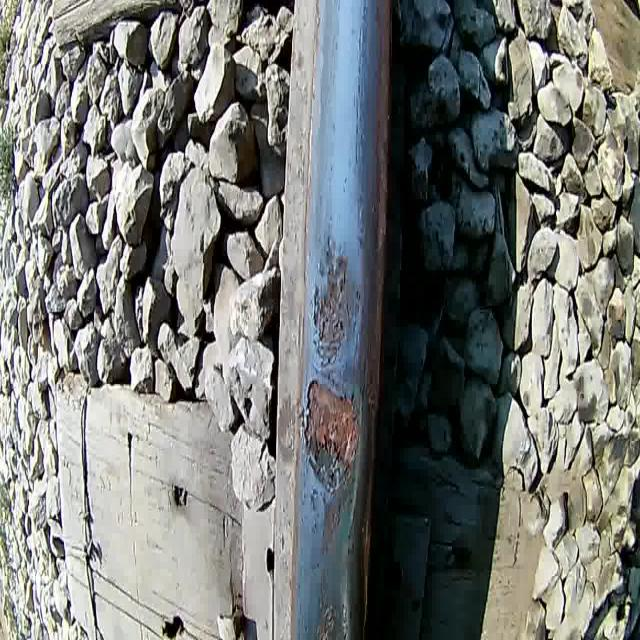Cracks: (345, 290, 361, 414), (310, 327, 342, 378), (344, 471, 360, 562)
Spallings: (292, 372, 365, 501), (311, 270, 366, 333)
Squats: (290, 363, 366, 561), (309, 226, 365, 374), (295, 561, 353, 640)
